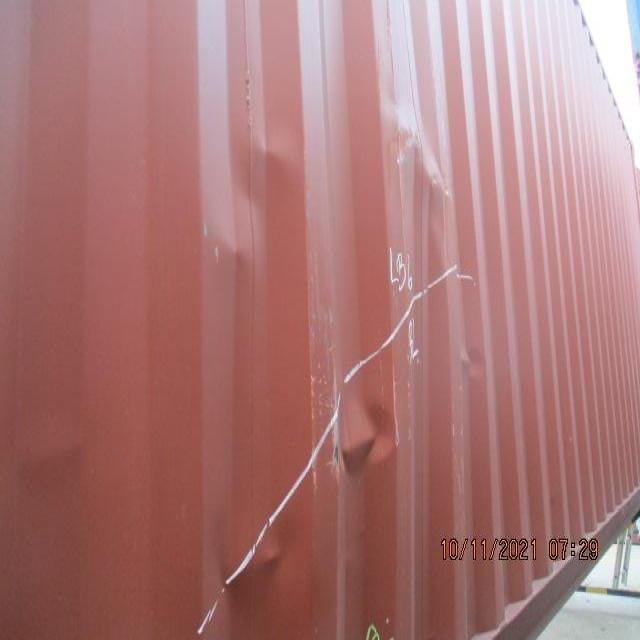dent: (194, 77, 496, 602)
